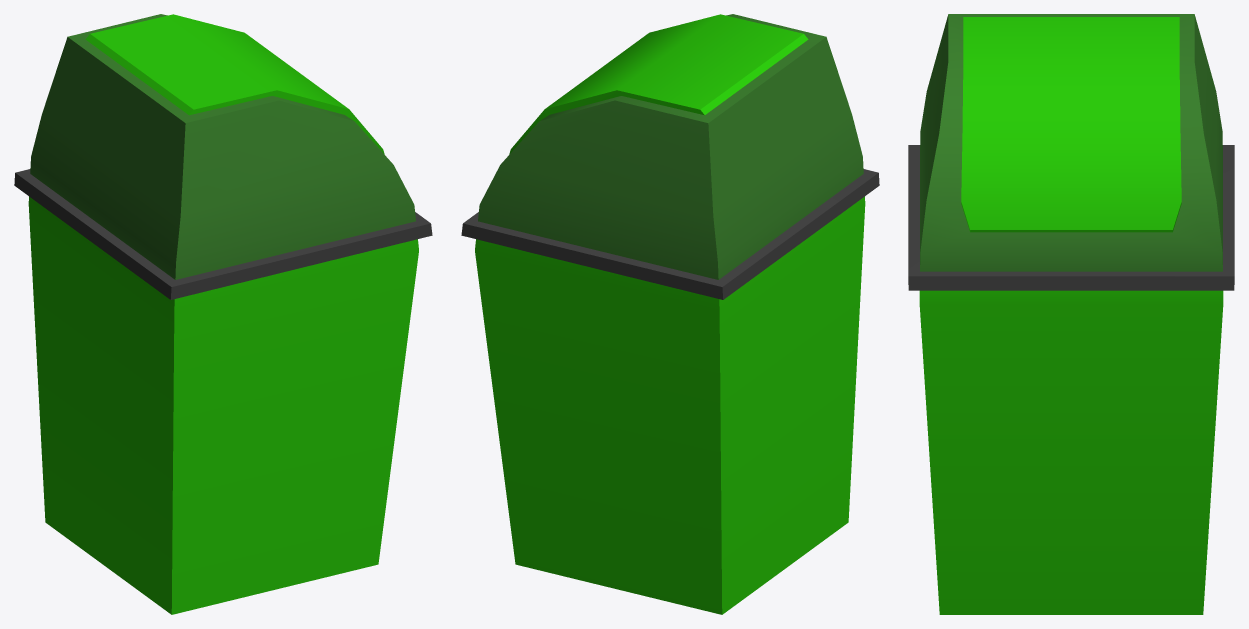
Rendered from GarbageBin.fbx.
The picture shows the model from 3 angles, left to right: view 1: azimuth 30°, elevation 25°; view 2: azimuth 150°, elevation 25°; view 3: azimuth 270°, elevation 25°; orthographic projection. The views are drawn at different scales.
Parts seen in each view (by area): view 1: garbageBin; view 2: garbageBin; view 3: garbageBin.
Boxes of the visible parts, left/top/right/bottom form: garbageBin: left=14, top=14, right=432, bottom=614; garbageBin: left=461, top=14, right=879, bottom=614; garbageBin: left=908, top=14, right=1234, bottom=614.
Size of the model in its own units: 56.67 by 101 by 58.68.
